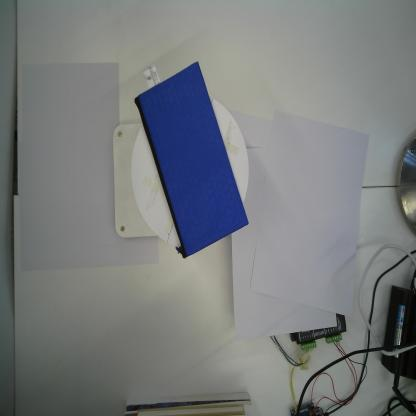Stationery: (134, 60, 250, 260)
